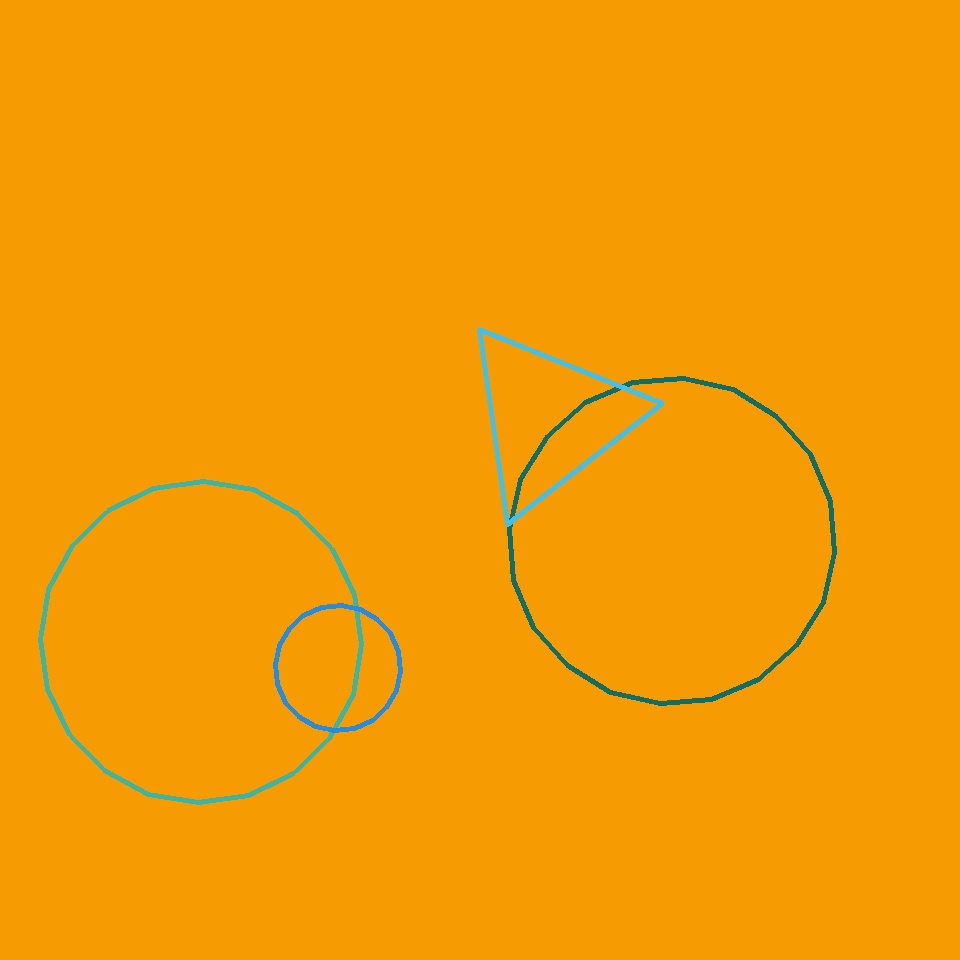circle: (458, 322, 642, 516)
triangle: (509, 378, 834, 704), (41, 481, 362, 802), (276, 606, 401, 730)
